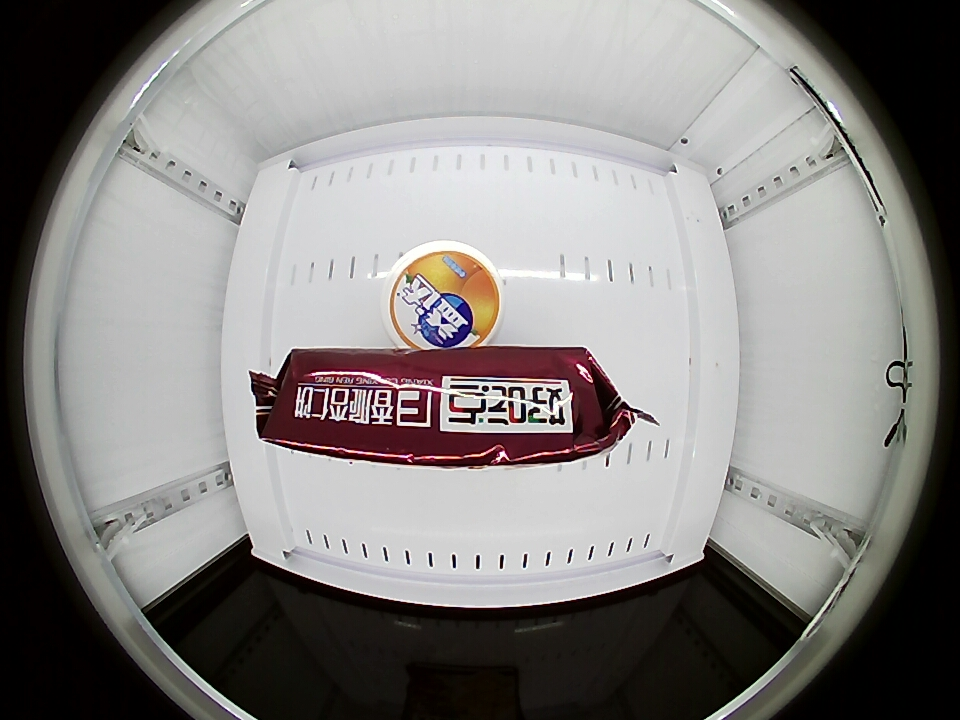haochidian: (253, 347, 624, 469)
